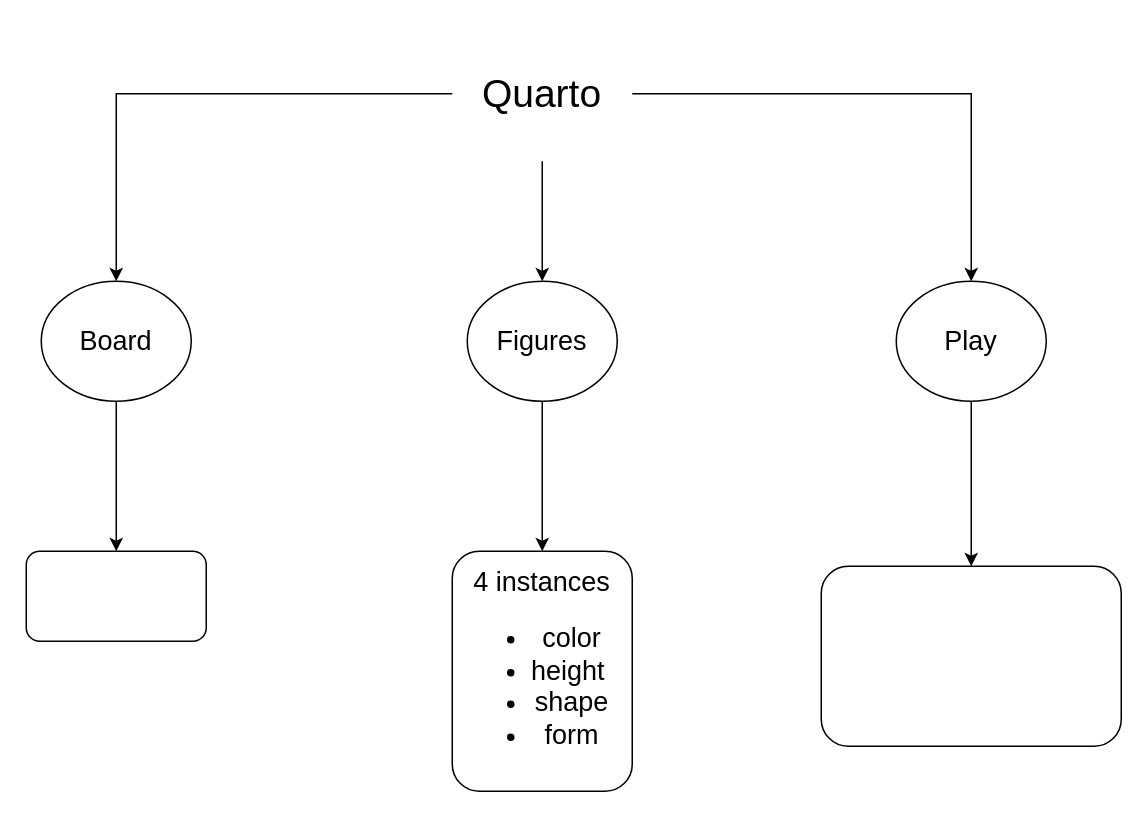
Image size: 1148x818. Some labels were removed from this diagram. The shapes that lost their labels are listed below. From the top down, each one's centre as x and y in pixels, then its label:
(115,595): 4X4 matrix
(970,655): Method to play unless a person wins. Method to check if there is a winner.
